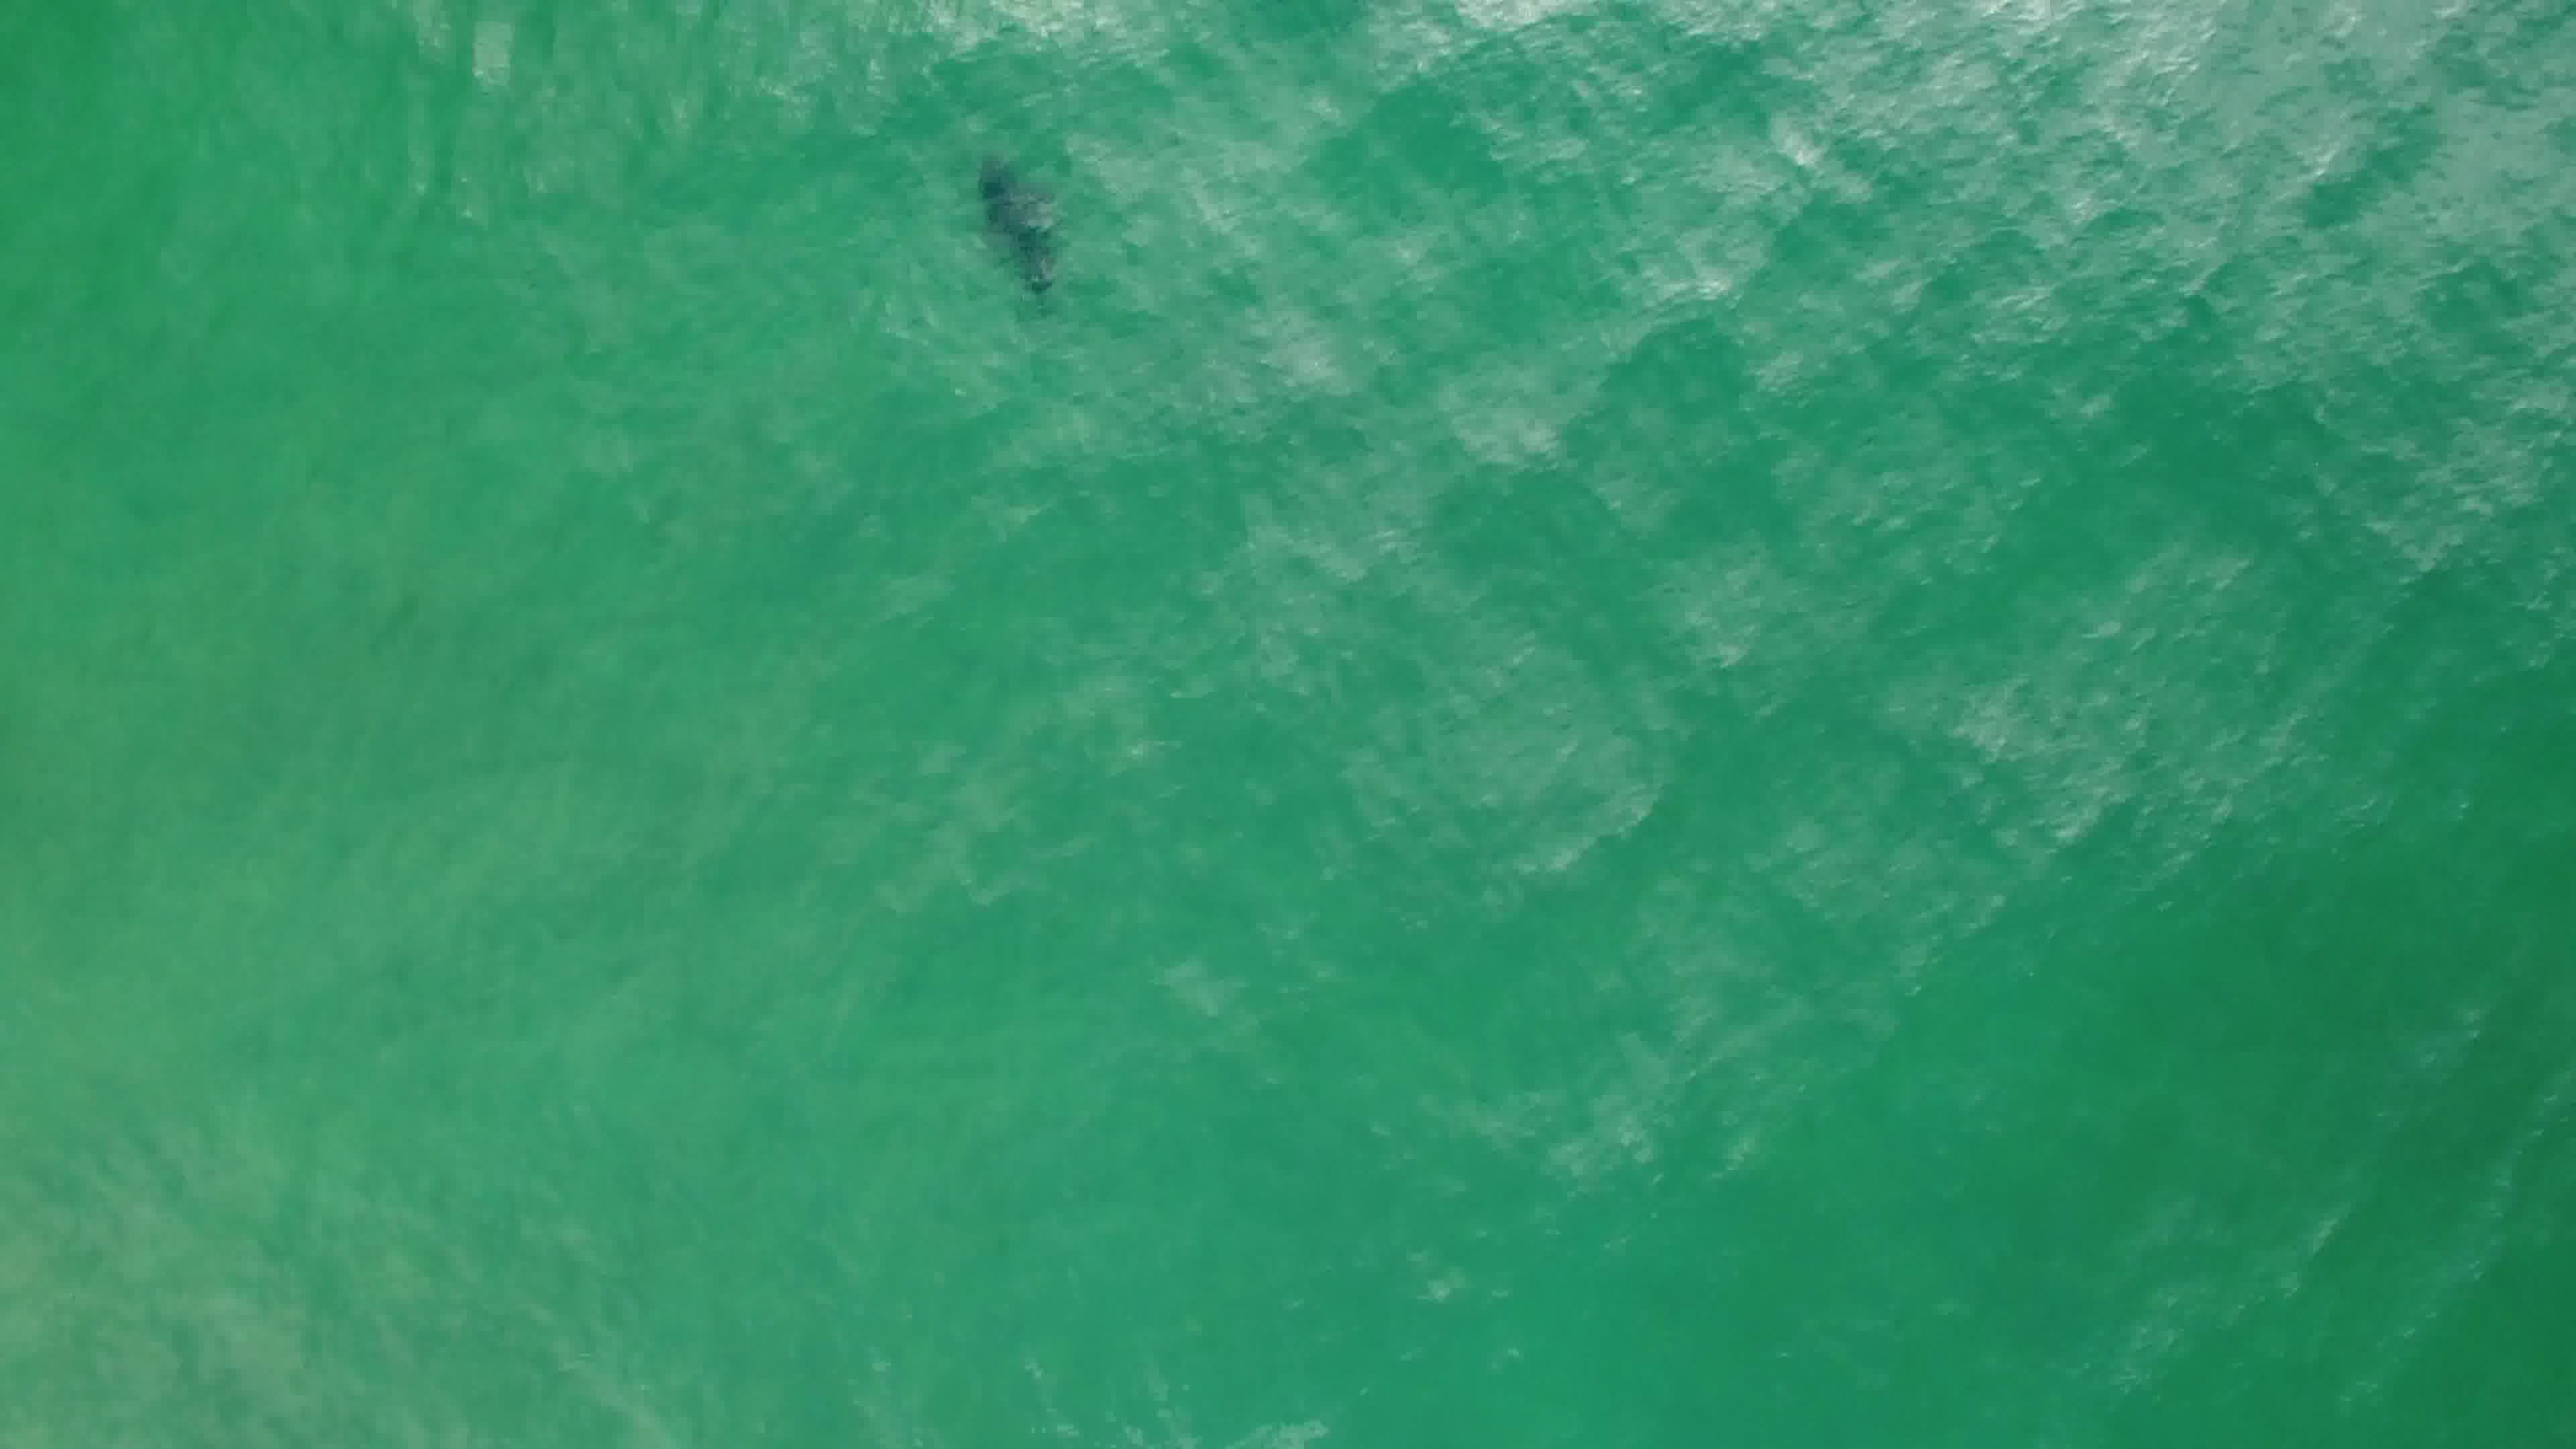shark: (966, 147, 1074, 310)
